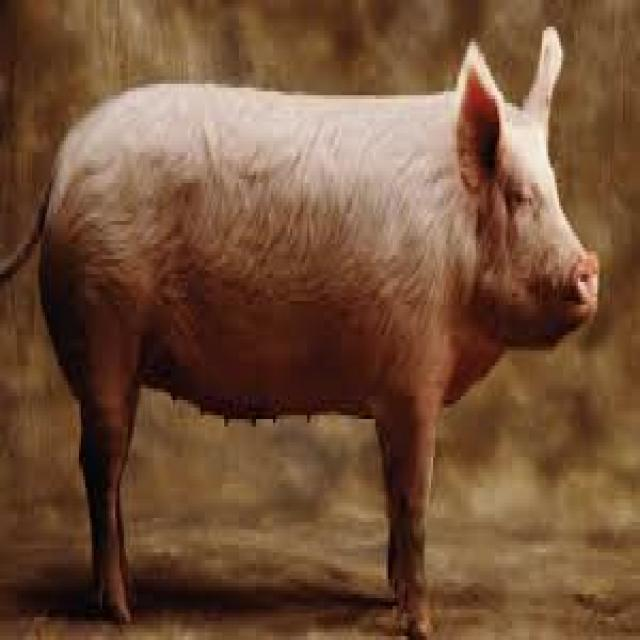pig: (0, 27, 597, 636)
